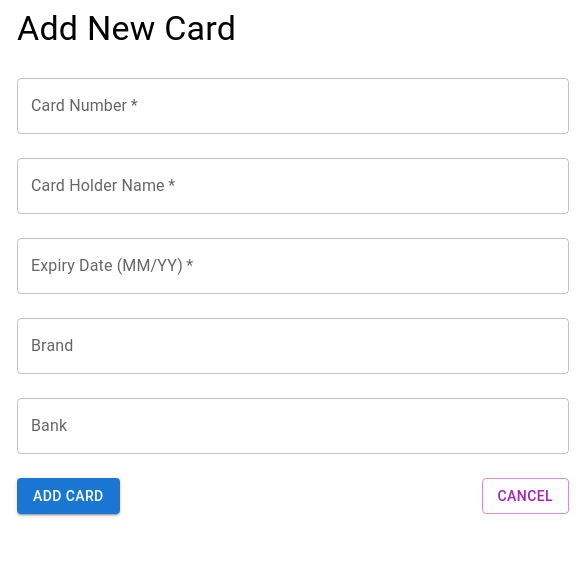
AddCard Component › Unhappy Paths › should show error message when network request fails
Note: Fill in the form
Type "4111111111111111" into the field labelled "Card Number *" at (293, 106), box [17,78,569,134]
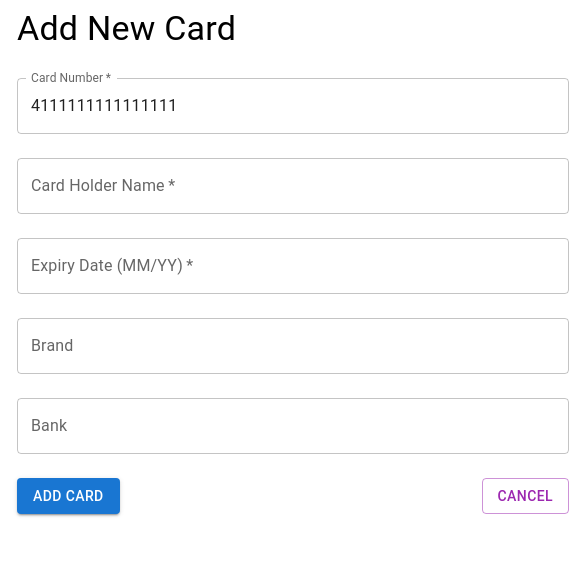
Type "John Doe" into the field labelled "Card Holder Name *" at (293, 186), box [17,158,569,214]
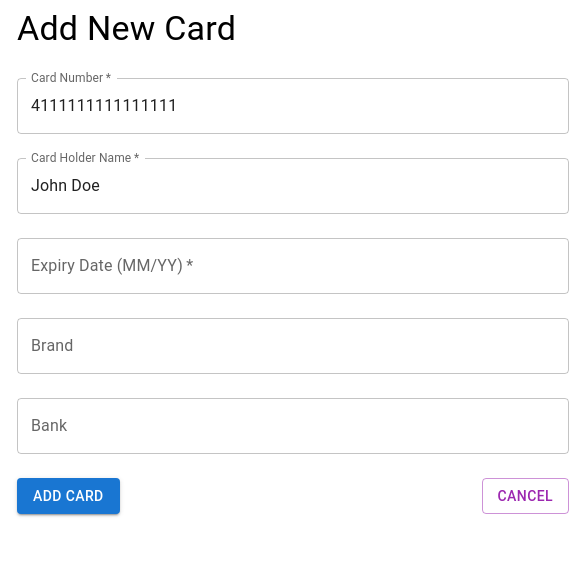
Type "12/25" into the field labelled "Expiry Date (MM/YY) *" at (293, 266), box [17,238,569,294]
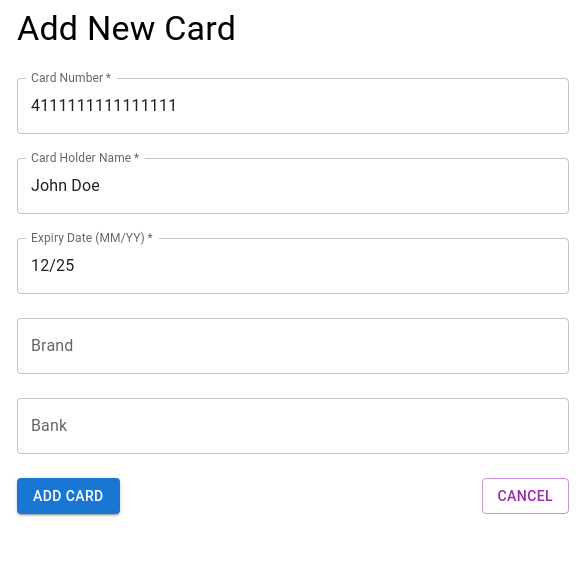
Note: Submit the form
Click the button "Add Card" at (68, 496), box [17,478,120,514]
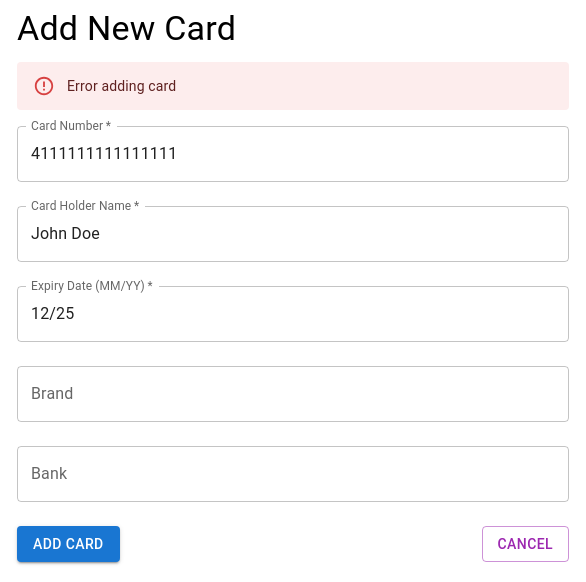
Expected: the text "Error adding card" is shown, [67,78,176,94]
